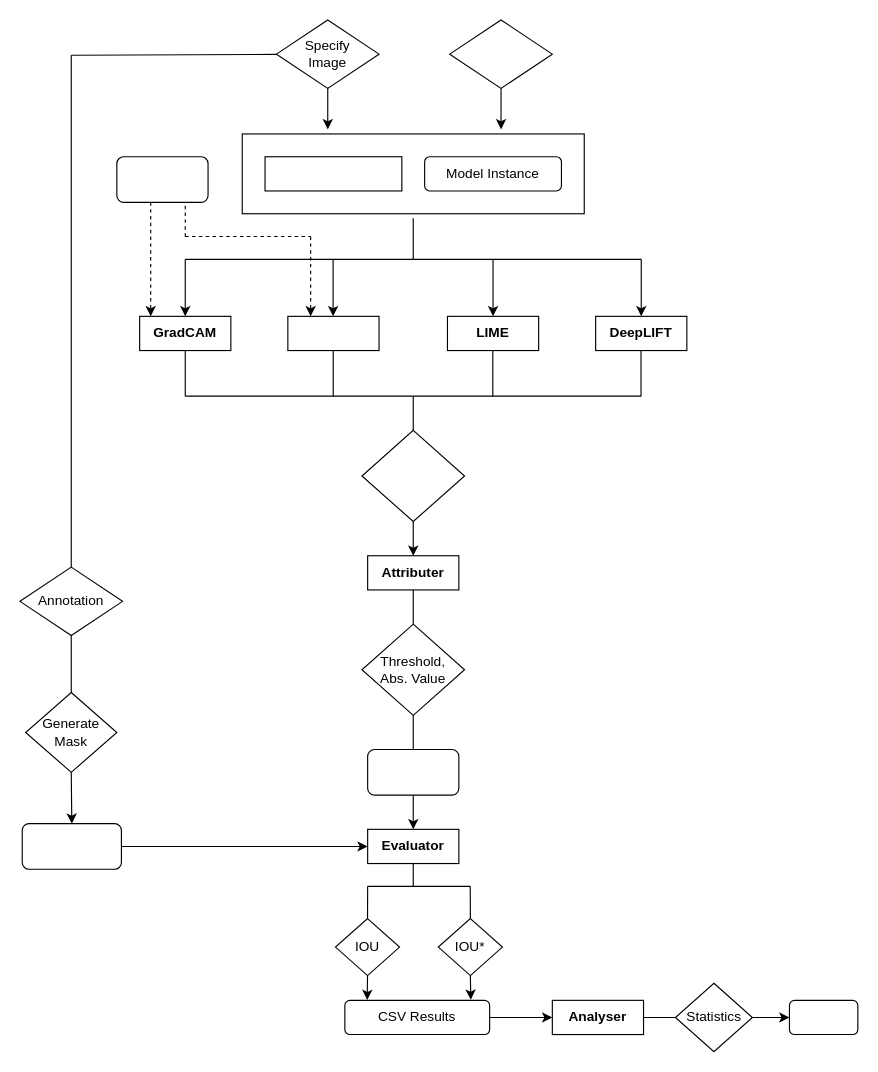
Some shapes in this 878 by 1072 pixel diagram are drawn without their labels. The centre of each missing label's shape, as x and y in pixels:
Adapted Attribution: pixel 413 771
Graph: pixel 823 1017
Ground Truth Mask: pixel 71 846
ImageHandler: pixel 333 173
Resize, Normalise: pixel 413 475
SHAP: pixel 333 333
Specified Layer Target: pixel 162 179
Specify Model: pixel 500 53
